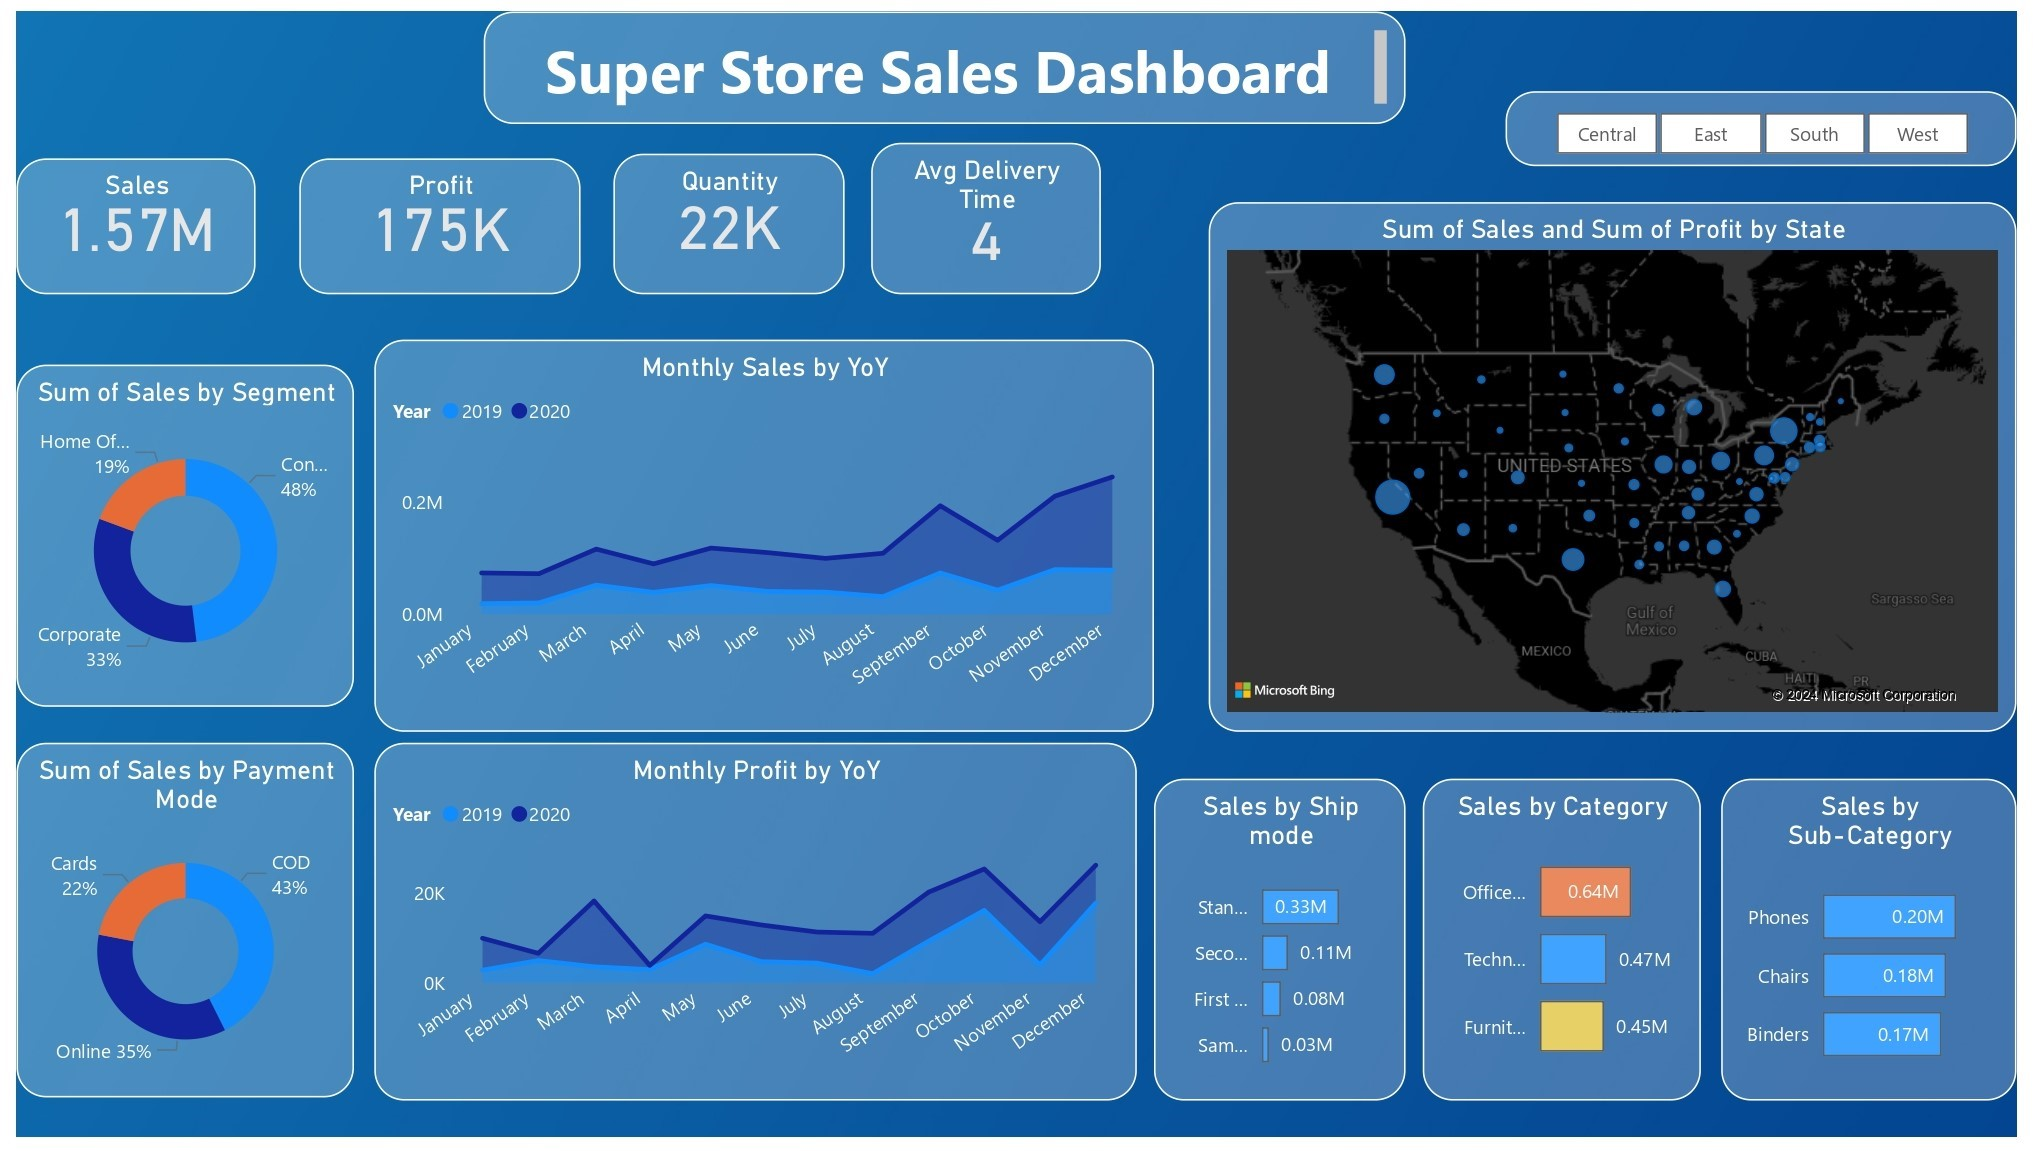

What the dashboard file says about the page in this screenshot:
{"tool":"powerbi","page":{"name":"Page 1","canvas":[1280,720],"ordinal":0},"visuals":[{"type":"clusteredBarChart","title":"Sales by Category","fields":{"Category":["SuperStore_Sales_Dataset.Category"],"Y":["Sum(SuperStore_Sales_Dataset.Sales)"]},"box":[900.3,491.5,178.1,205.2],"z":0},{"type":"clusteredBarChart","title":"Sales by Sub-Category","fields":{"Y":["Sum(SuperStore_Sales_Dataset.Sales)"],"Category":["SuperStore_Sales_Dataset.Sub-Category"]},"box":[1091.2,491.5,189.3,205.2],"z":1000},{"type":"clusteredBarChart","title":"Sales by Ship mode","fields":{"Y":["Sum(SuperStore_Sales_Dataset.Sales)"],"Category":["SuperStore_Sales_Dataset.Ship Mode"]},"box":[728.5,491.5,160.7,205.2],"z":2000},{"type":"stackedAreaChart","title":"Monthly Sales by YoY","fields":{"Y":["Sum(SuperStore_Sales_Dataset.Sales)"],"Category":["SuperStore_Sales_Dataset.Order Date.Variation.Date Hierarchy.Month","SuperStore_Sales_Dataset.Order Date.Variation.Date Hierarchy.Day"],"Series":["SuperStore_Sales_Dataset.Order Date.Variation.Date Hierarchy.Year"]},"box":[229,210,499.5,251.3],"z":3000},{"type":"stackedAreaChart","title":"Monthly Profit by YoY","fields":{"Category":["SuperStore_Sales_Dataset.Order Date.Variation.Date Hierarchy.Month","SuperStore_Sales_Dataset.Order Date.Variation.Date Hierarchy.Day"],"Series":["SuperStore_Sales_Dataset.Order Date.Variation.Date Hierarchy.Year"],"Y":["Sum(SuperStore_Sales_Dataset.Profit)"]},"box":[229,467.6,488.3,229],"z":4000},{"type":"map","fields":{"Category":["SuperStore_Sales_Dataset.State"],"Size":["Sum(SuperStore_Sales_Dataset.Sales)"]},"box":[763.5,122.5,516.9,338.8],"z":5000},{"type":"donutChart","fields":{"Category":["SuperStore_Sales_Dataset.Segment"],"Y":["Sum(SuperStore_Sales_Dataset.Sales)"]},"box":[0,225.9,216.3,219.5],"z":6000},{"type":"donutChart","fields":{"Y":["Sum(SuperStore_Sales_Dataset.Sales)"],"Category":["SuperStore_Sales_Dataset.Payment Mode"]},"box":[0,467.6,216.3,227.5],"z":7000},{"type":"slicer","fields":{"Values":["SuperStore_Sales_Dataset.Region"]},"box":[952.8,50.9,327.7,47.7],"z":8000},{"type":"textbox","box":[299,0,590.1,71.6],"z":9000},{"type":"card","title":"Sales","fields":{"Values":["Sum(SuperStore_Sales_Dataset.Sales)"]},"box":[0,93.8,152.7,87.5],"z":10000},{"type":"card","title":"Quantity","fields":{"Values":["Sum(SuperStore_Sales_Dataset.Quantity)"]},"box":[381.7,90.7,147.9,90.7],"z":11000},{"type":"card","title":"Profit","fields":{"Values":["Sum(SuperStore_Sales_Dataset.Profit)"]},"box":[181.3,93.8,179.7,87.5],"z":12000},{"type":"card","title":"Avg Delivery Time","fields":{"Values":["Avg(SuperStore_Sales_Dataset.AvgDelivery)"]},"box":[547.2,84.3,146.3,97],"z":13000}]}

Visuals, with their boxes in screenshot pixels (x1, y1, x2, y2), scaled from the page's 1280x720 canvas onto the 2033x1151 screenshot:
"Sales by Category" clusteredBarChart: [x1=1430, y1=786, x2=1713, y2=1114]
"Sales by Sub-Category" clusteredBarChart: [x1=1733, y1=786, x2=2032, y2=1114]
"Sales by Ship mode" clusteredBarChart: [x1=1157, y1=786, x2=1412, y2=1114]
"Monthly Sales by YoY" stackedAreaChart: [x1=364, y1=336, x2=1157, y2=737]
"Monthly Profit by YoY" stackedAreaChart: [x1=364, y1=748, x2=1139, y2=1114]
map - SuperStore_Sales_Dataset.State x Sum(SuperStore_Sales_Dataset.Sales): [x1=1213, y1=196, x2=2032, y2=737]
donutChart - SuperStore_Sales_Dataset.Segment x Sum(SuperStore_Sales_Dataset.Sales): [x1=0, y1=361, x2=344, y2=712]
donutChart - Sum(SuperStore_Sales_Dataset.Sales) x SuperStore_Sales_Dataset.Payment Mode: [x1=0, y1=748, x2=344, y2=1111]
slicer - SuperStore_Sales_Dataset.Region: [x1=1513, y1=81, x2=2032, y2=158]
textbox: [x1=475, y1=0, x2=1412, y2=114]
"Sales" card: [x1=0, y1=150, x2=243, y2=290]
"Quantity" card: [x1=606, y1=145, x2=841, y2=290]
"Profit" card: [x1=288, y1=150, x2=573, y2=290]
"Avg Delivery Time" card: [x1=869, y1=135, x2=1101, y2=290]
